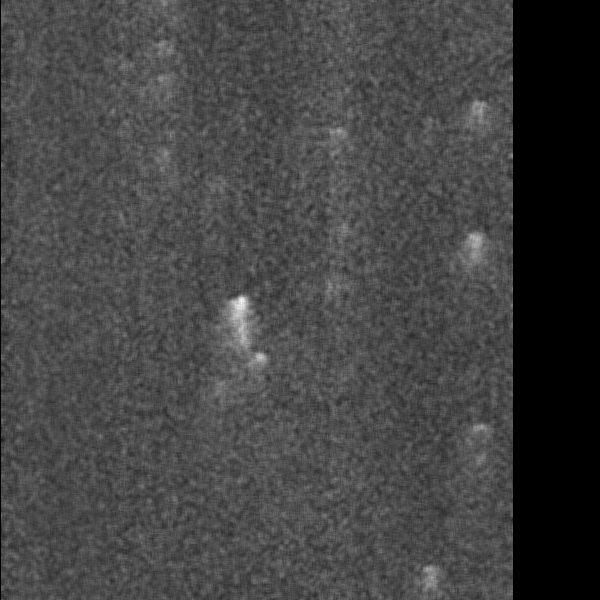spark: (229, 286, 252, 434), (461, 228, 487, 305), (460, 95, 491, 153), (416, 560, 448, 600), (322, 120, 355, 146), (144, 36, 173, 63), (464, 414, 491, 438), (213, 375, 229, 414), (144, 70, 181, 85), (465, 450, 491, 471)
